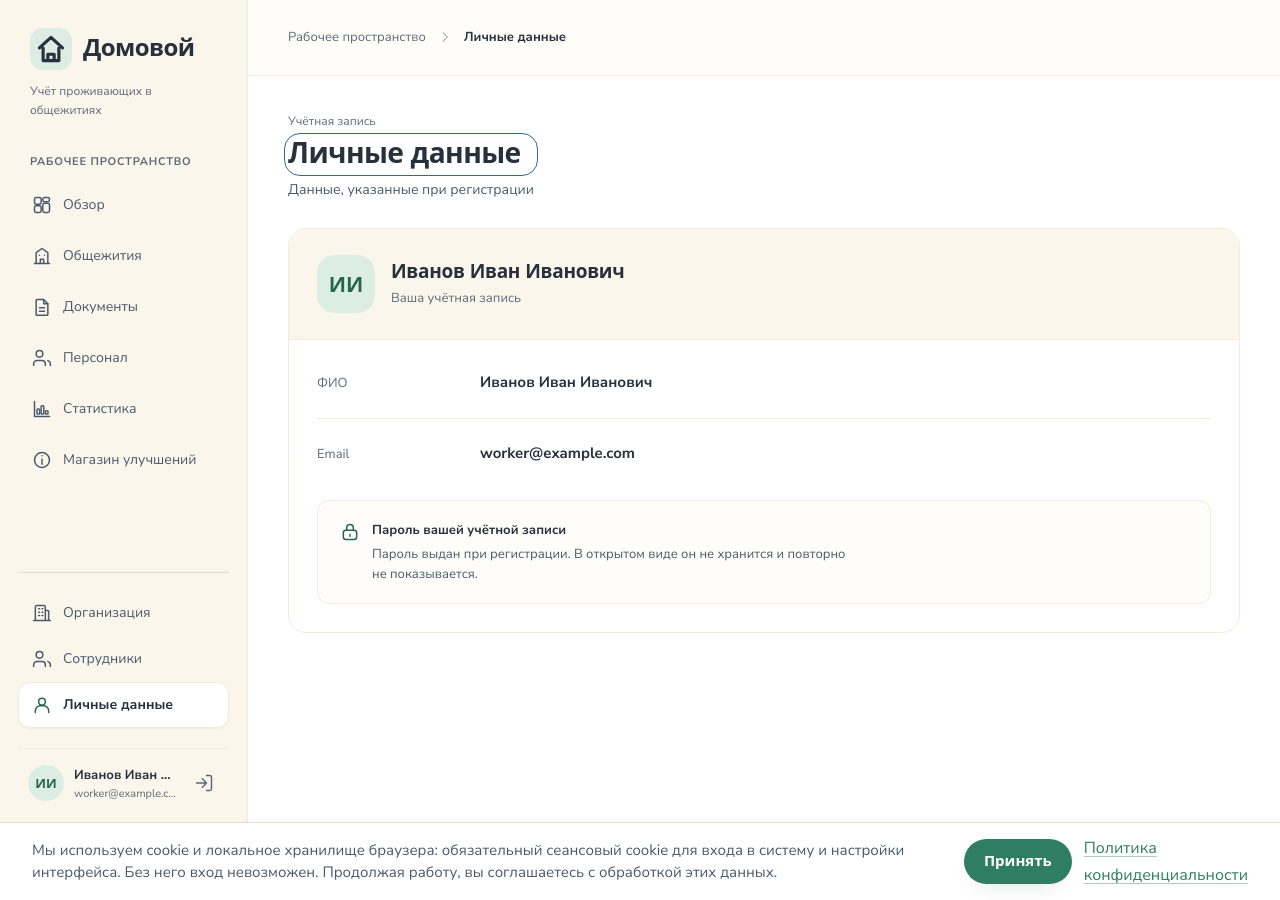
Scenario: защищённый маршрут /cabinet › при сбое выхода сохраняет сессию и позволяет повторить запрос
This screenshot has width=1280, height=900.
Click the button with test id "logout-button" at (204, 783), box [189, 768, 219, 798]
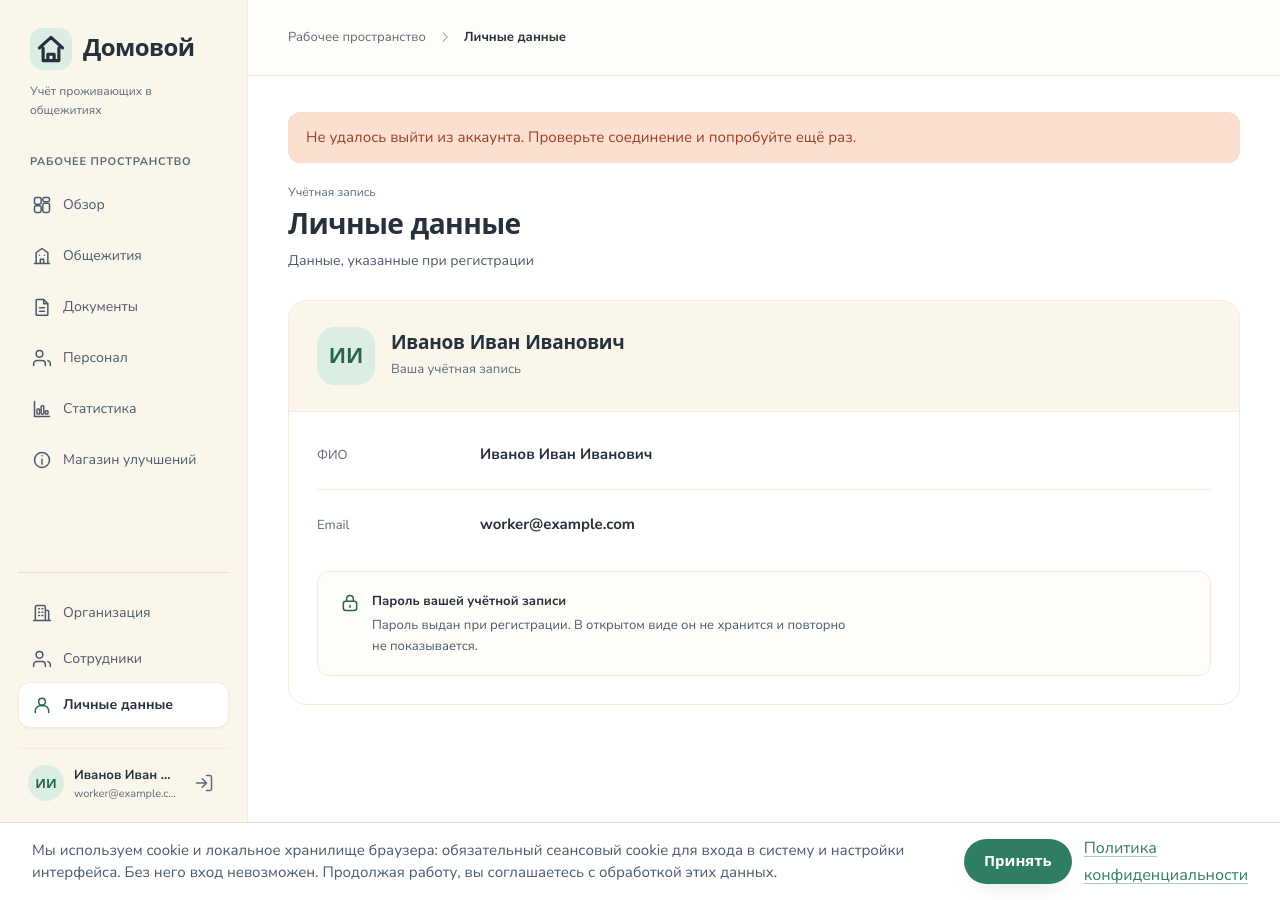
Expected: the text with test id "cabinet-email" reads "worker@example.com", [480, 514, 635, 534]
Expected: the message shows "Не удалось выйти из аккаунта", [306, 127, 856, 147]
Click the button with test id "logout-button" at (204, 783), box [189, 768, 219, 798]
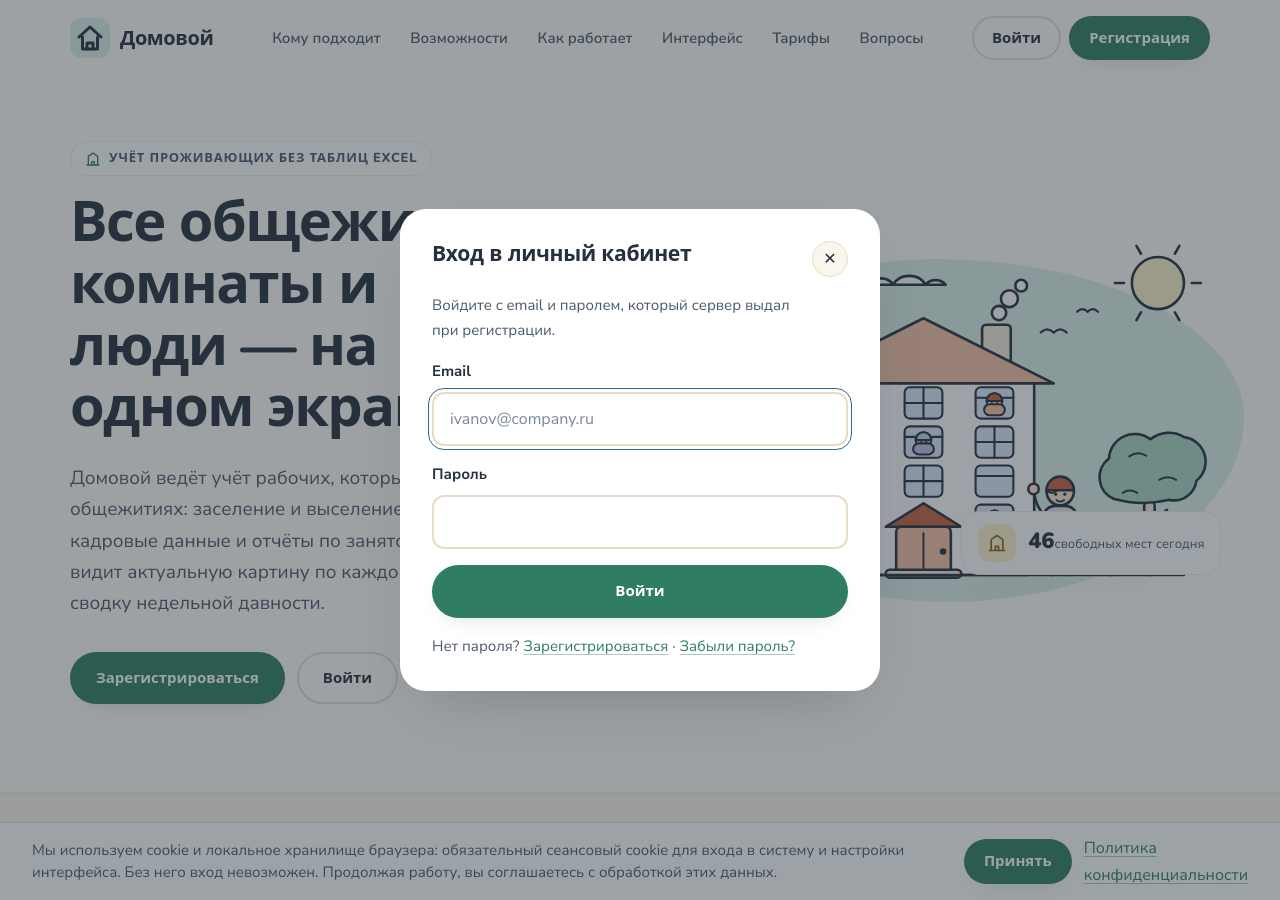
Expected: the button with test id "login-submit" is shown, [432, 565, 848, 618]
